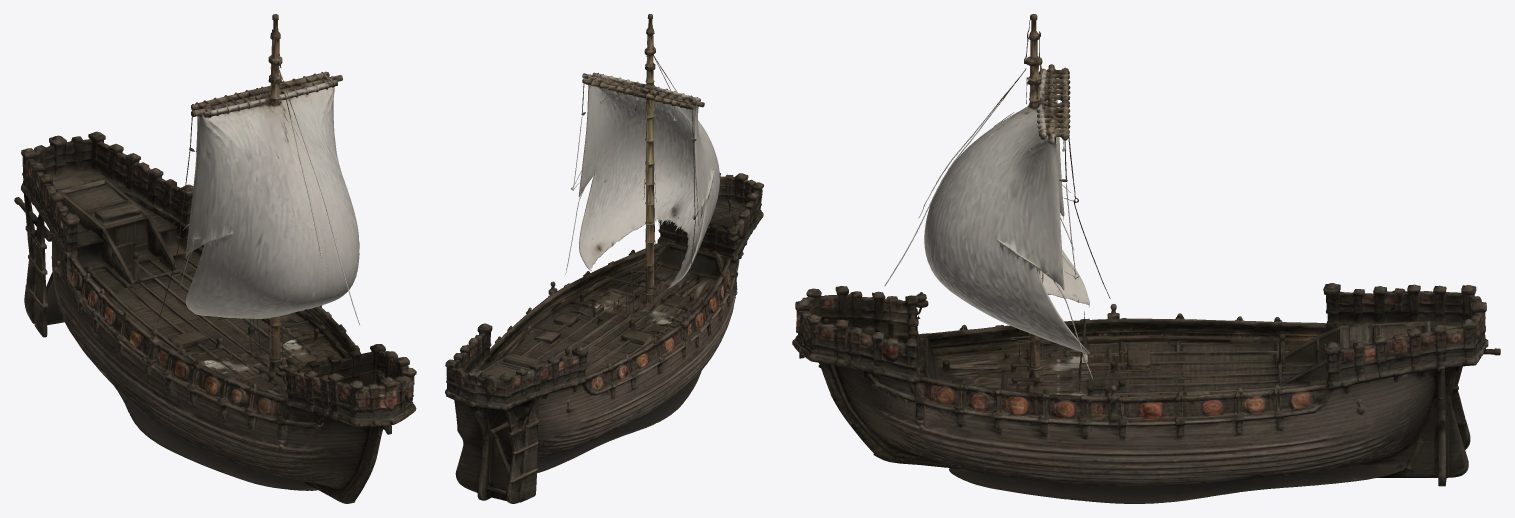
Rendered from cog.glb.
The picture shows the model from 3 angles, left to right: view 1: azimuth 30°, elevation 25°; view 2: azimuth 150°, elevation 25°; view 3: azimuth 270°, elevation 25°; orthographic projection. The views are drawn at different scales.
Visible parts, largest first — view 1: node_0; view 2: node_0; view 3: node_0.
Part boxes in pixels (left/top/right/bottom): node_0: left=14, top=14, right=416, bottom=503; node_0: left=445, top=14, right=763, bottom=503; node_0: left=792, top=14, right=1500, bottom=503.
Bounding box in the file's own units: 0.3104 × 0.7541 × 1.05.
1 material, 1 textured.
